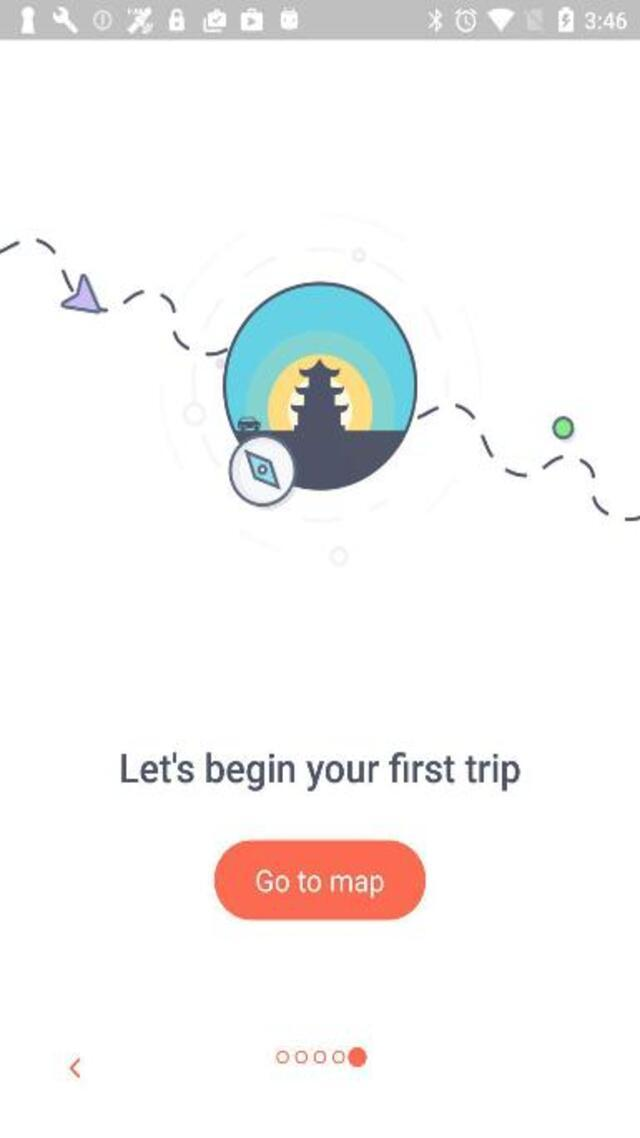Icon: (70, 1057, 82, 1077)
Image: (0, 214, 638, 566)
Text: (117, 750, 522, 792), (251, 866, 388, 900)
TextButton: (215, 840, 428, 920)
